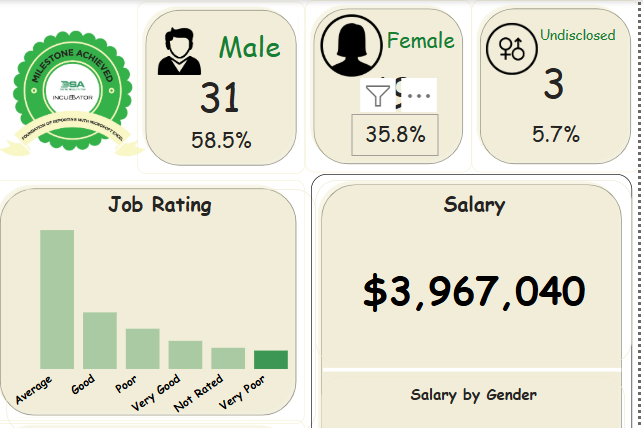

The dashboard page shown, as its layout file describes it:
{"tool":"powerbi","page":{"name":"🏡  Home","canvas":[1280,720],"ordinal":0},"visuals":[{"type":"shape","box":[0,8.1,278.5,712.5],"z":0},{"type":"shape","box":[278.5,8.1,306,186.2],"z":1000},{"type":"textbox","box":[289.8,53.4,283.4,152.2],"z":2000},{"type":"image","box":[0,35.6,278.5,93.9],"z":3000},{"type":"shape","box":[393.5,21,76.1,66.4],"z":4000},{"type":"shape","box":[416.1,35.6,32.4,38.9],"z":5000},{"type":"image","box":[584.5,14.6,168.4,173.3],"z":6000},{"type":"shape","box":[738.4,1.6,181.4,186.2],"z":7000},{"type":"shape","box":[919.7,0,179.7,186.2],"z":8000},{"type":"shape","box":[1099.5,0,181.4,186.2],"z":9000},{"type":"shape","box":[278.5,194.3,306,526.2],"z":10000},{"type":"shape","box":[291.5,445.3,283.4,24.3],"z":11000},{"type":"pageNavigator","box":[37.2,325.5,181.4,343.3],"z":12000},{"type":"card","title":"Male","fields":{"Values":["Palmoria Group emp-data (1).Male"]},"box":[754.6,27.5,149,108.5],"z":13000},{"type":"card","fields":{"Values":["Palmoria Group emp-data (1).% Male"]},"box":[782.1,129.5,93.9,45.3],"z":14000},{"type":"image","box":[738.4,24.3,90.7,61.5],"z":15000},{"type":"card","title":"Female","fields":{"Values":["Palmoria Group emp-data (1).Female"]},"box":[942.4,27.5,149,108.5],"z":16000},{"type":"card","fields":{"Values":["Palmoria Group emp-data (1).% Female"]},"box":[970.2,122.3,93.9,45.3],"z":17000},{"type":"image","box":[931.1,8.1,77.7,82.6],"z":18000},{"type":"card","title":"Undisclosed","fields":{"Values":["Palmoria Group emp-data (1).Undisclosed"]},"box":[1115.6,21,149,108.5],"z":19000},{"type":"card","fields":{"Values":["Palmoria Group emp-data (1).% Undisclosed"]},"box":[1143.2,123.1,93.9,45.3],"z":20000},{"type":"image","box":[1089.7,19.4,106.9,66.4],"z":21000},{"type":"barChart","title":"Employee by Region","fields":{"Category":["Palmoria Group emp-data (1).Location"],"Y":["Palmoria Group emp-data (1).Total Emp"]},"box":[286.6,205.6,293.1,239.6],"z":22000},{"type":"columnChart","title":"Employee by Deoartment","fields":{"Category":["Palmoria Group emp-data (1).Department"],"Y":["Palmoria Group emp-data (1).Total Emp"]},"box":[287.6,453.7,277.5,267.3],"z":23000},{"type":"shape","box":[581.3,194.4,338.2,263.3],"z":24000},{"type":"columnChart","title":"Job Rating","fields":{"Category":["Palmoria Group emp-data (1).Rating"],"Y":["Palmoria Group emp-data (1).Total Emp"]},"box":[597.5,204.6,334.2,263.3],"z":25000},{"type":"shape","box":[581.3,453.4,338.4,267.2],"z":26000},{"type":"shape","box":[926.2,187.8,346.5,532.7],"z":27000},{"type":"card","title":"Salary","fields":{"Values":["Sum(Palmoria Group emp-data (1).Salary)"]},"box":[931.1,194.3,341.7,197.5],"z":28000},{"type":"donutChart","title":"Salary by Gender","fields":{"Y":["Sum(Palmoria Group emp-data (1).Salary)"],"Category":["Palmoria Group emp-data (1).Gender"]},"box":[937.5,406.4,327.1,309.3],"z":29000},{"type":"shape","box":[939.2,391.9,322.2,14.6],"z":30000},{"type":"pieChart","title":" Salary by Location","fields":{"Category":["Palmoria Group emp-data (1).Location"],"Y":["Sum(Palmoria Group emp-data (1).Salary)"]},"box":[597.5,463.1,306,244.5],"z":31000},{"type":"card","title":"Total Employee","fields":{"Values":["Palmoria Group emp-data (1).Total Emp"]},"box":[36.5,206.6,208.6,131.6],"z":32000},{"type":"shape","box":[9.7,187.8,260.7,17.8],"z":33000}]}

Visuals, with their boxes on the page's 1280x720 design canvas (x1, y1, x2, y2). These are canvas units, not pixel positions in the 643x428 screenshot, which may show the page scaled, cropped or inside an application window:
shape: [0,8,278,721]
shape: [278,8,584,194]
textbox: [290,53,573,206]
image: [0,36,278,130]
shape: [394,21,470,87]
shape: [416,36,448,74]
image: [584,15,753,188]
shape: [738,2,920,188]
shape: [920,0,1099,186]
shape: [1100,0,1281,186]
shape: [278,194,584,720]
shape: [292,445,575,470]
pageNavigator: [37,326,219,669]
"Male" card: [755,28,904,136]
card - Palmoria Group emp-data (1).% Male: [782,130,876,175]
image: [738,24,829,86]
"Female" card: [942,28,1091,136]
card - Palmoria Group emp-data (1).% Female: [970,122,1064,168]
image: [931,8,1009,91]
"Undisclosed" card: [1116,21,1265,130]
card - Palmoria Group emp-data (1).% Undisclosed: [1143,123,1237,168]
image: [1090,19,1197,86]
"Employee by Region" barChart: [287,206,580,445]
"Employee by Deoartment" columnChart: [288,454,565,721]
shape: [581,194,920,458]
"Job Rating" columnChart: [598,205,932,468]
shape: [581,453,920,721]
shape: [926,188,1273,720]
"Salary" card: [931,194,1273,392]
"Salary by Gender" donutChart: [938,406,1265,716]
shape: [939,392,1261,406]
" Salary by Location" pieChart: [598,463,904,708]
"Total Employee" card: [36,207,245,338]
shape: [10,188,270,206]
